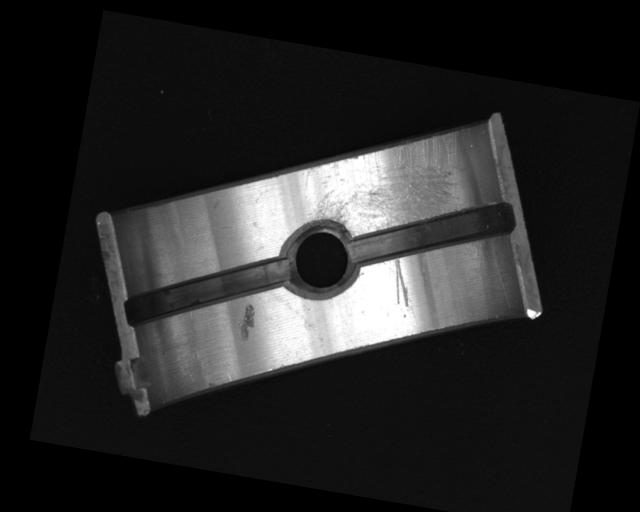bruise: (234, 301, 259, 343)
gap: (121, 231, 298, 350), (349, 179, 518, 287)
hole: (277, 218, 362, 301)
nick: (387, 256, 417, 308)
scratch: (301, 104, 468, 249)
